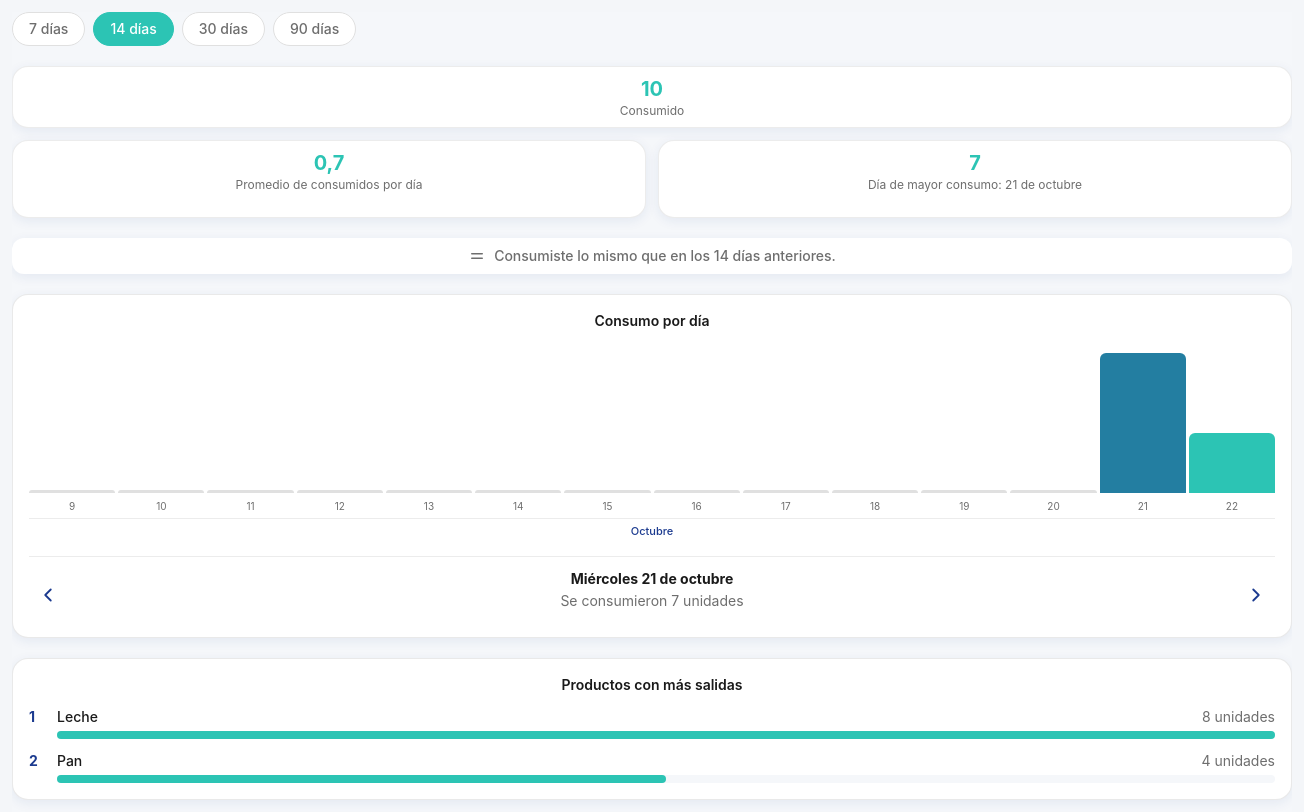
TrendsPanel · interacción con las barras › al pasar el mouse sobre una barra de consumo muestra lo que pasó ese día, y al salir lo oculta
This screenshot has width=1304, height=812.
Step 1. Hover over the button with test id "trends-bar-12" → x=1143, y=418, box [1100,343,1186,493]
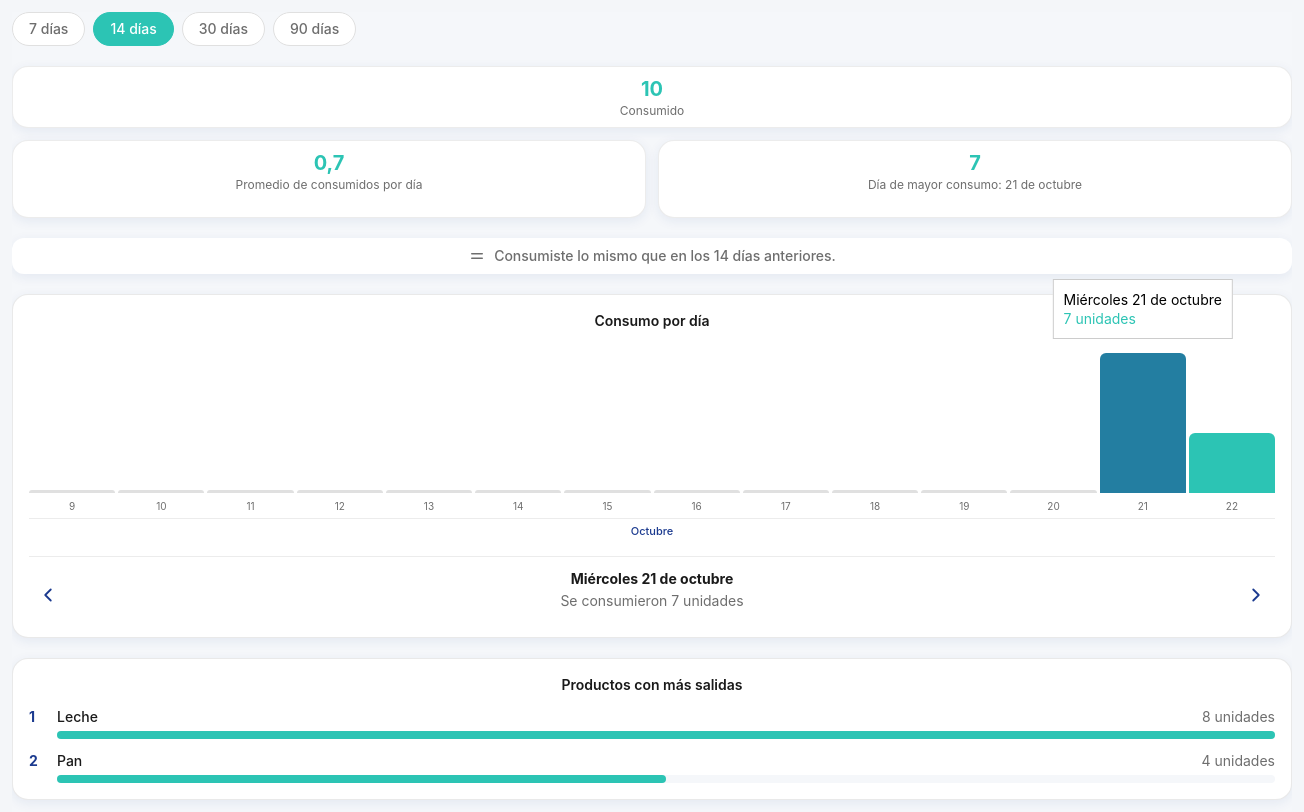
Expected: the tooltip with test id "trends-tooltip-12" does not show "Se consumieron", [1052,278,1233,339]
Step 2. Hover over the button with test id "trends-bar-13" → x=1232, y=418, box [1189,343,1275,493]
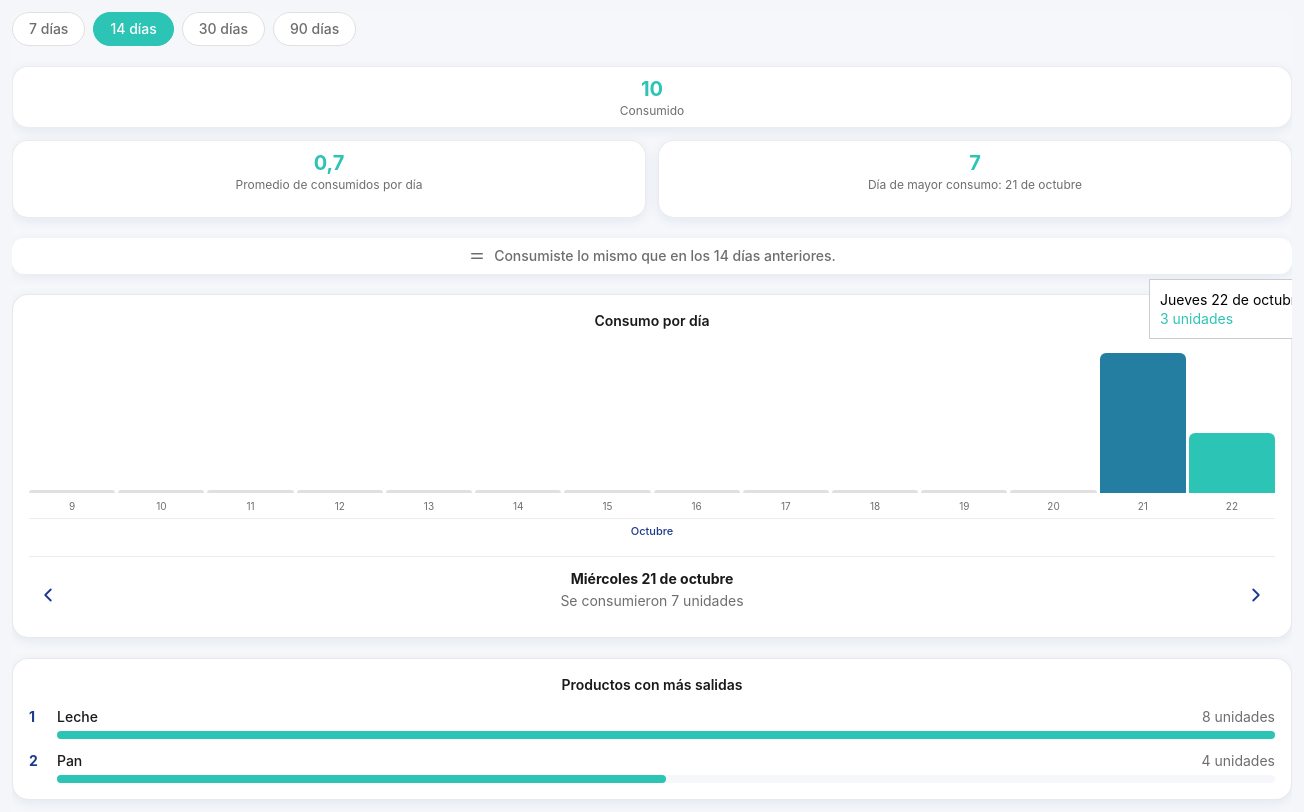
Now the tooltip with test id "trends-tooltip-12" is gone
Now the text with test id "trends-tooltip-units-13" reads "3 unidades", box [1160,310,1233,327]
Step 3. Move the pointer off the button with test id "trends-bar-13", box [1189,343,1275,493]
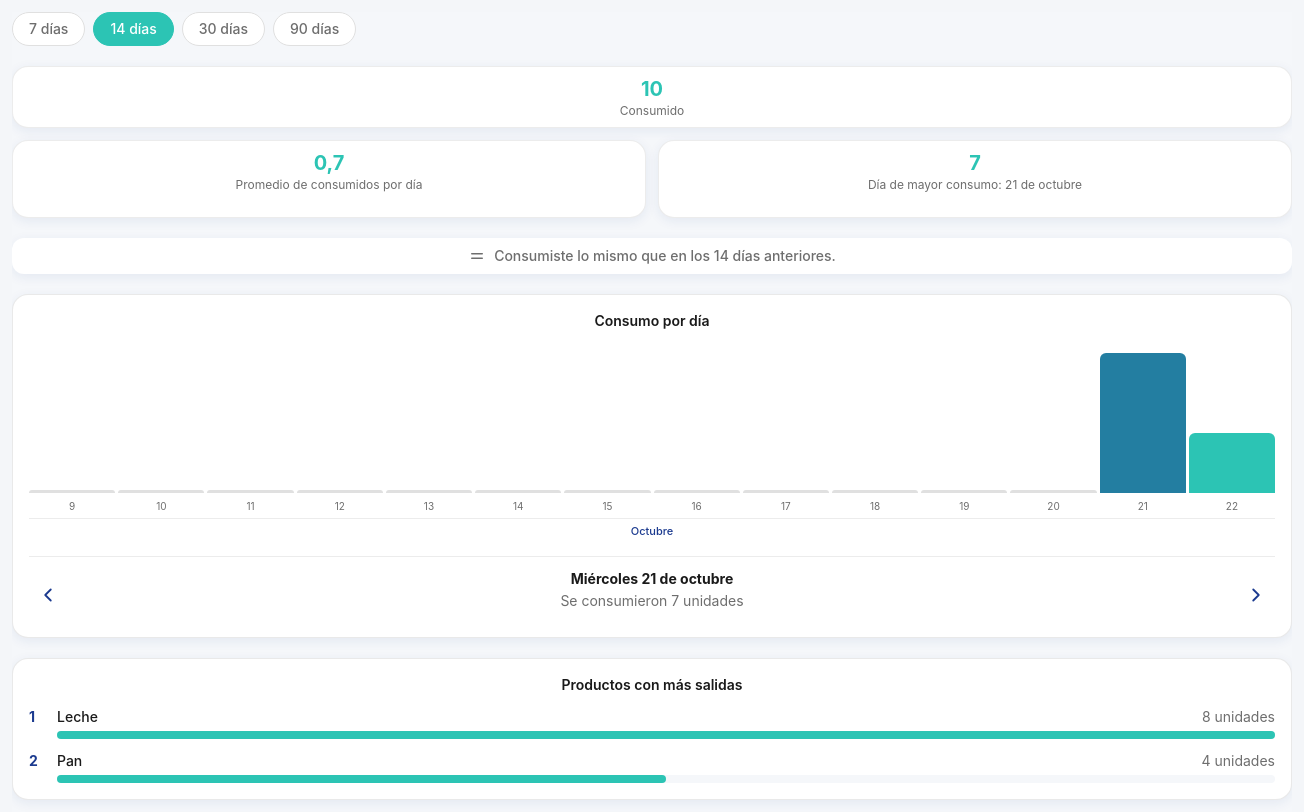
Now the tooltip "Jueves 22 de octubre 3 unidades" is gone
